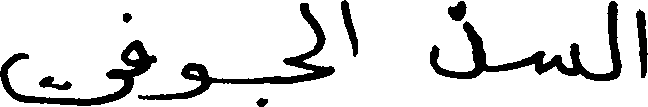ا: (338, 0, 357, 57), (632, 6, 646, 77)
ج: (242, 58, 334, 105)
ذ: (426, 0, 486, 80)
س: (533, 40, 580, 76)
ف: (119, 10, 148, 99)
ل: (301, 0, 336, 53), (607, 0, 622, 81)
و: (179, 60, 212, 99)
ي: (0, 50, 122, 105)
